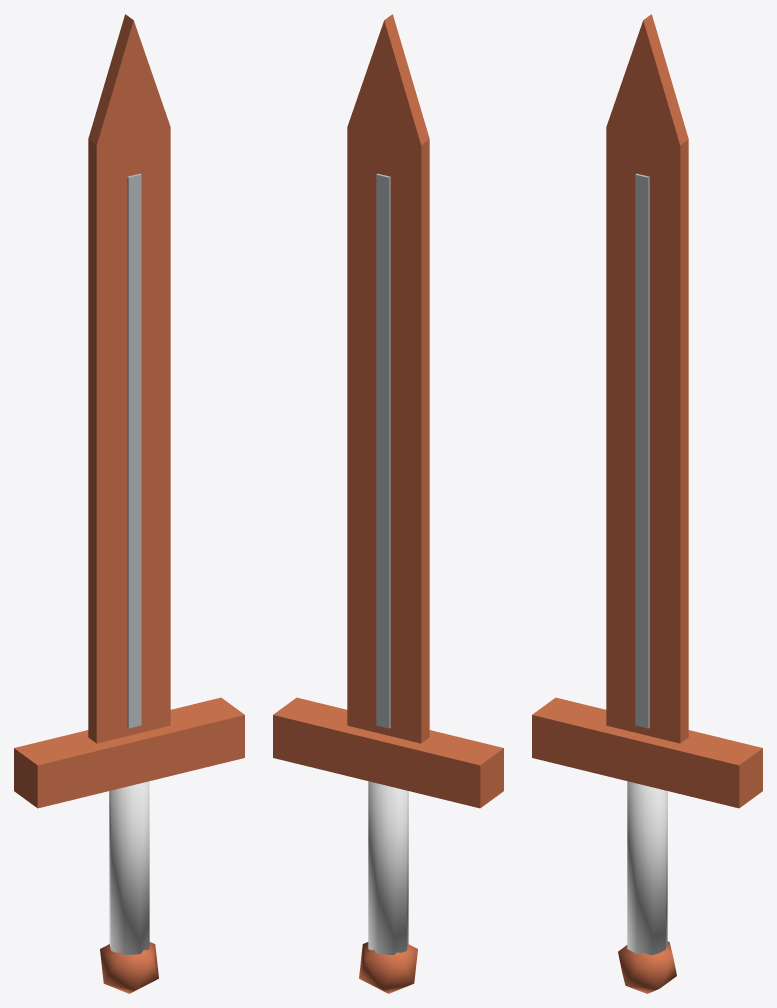
File: palladium_broadsword.glb
The picture shows the model from 3 angles, left to right: view 1: azimuth 30°, elevation 25°; view 2: azimuth 150°, elevation 25°; view 3: azimuth 330°, elevation 25°; orthographic projection.
Parts seen in each view (by area): view 1: palladium_broadsword_v0; view 2: palladium_broadsword_v0; view 3: palladium_broadsword_v0.
Part boxes in pixels (box(x1,y1,x2,y2)): palladium_broadsword_v0: box(14, 14, 244, 993); palladium_broadsword_v0: box(273, 14, 503, 993); palladium_broadsword_v0: box(532, 14, 762, 993).
Size of the model in its own units: 0.252 by 1.13 by 0.0595.
